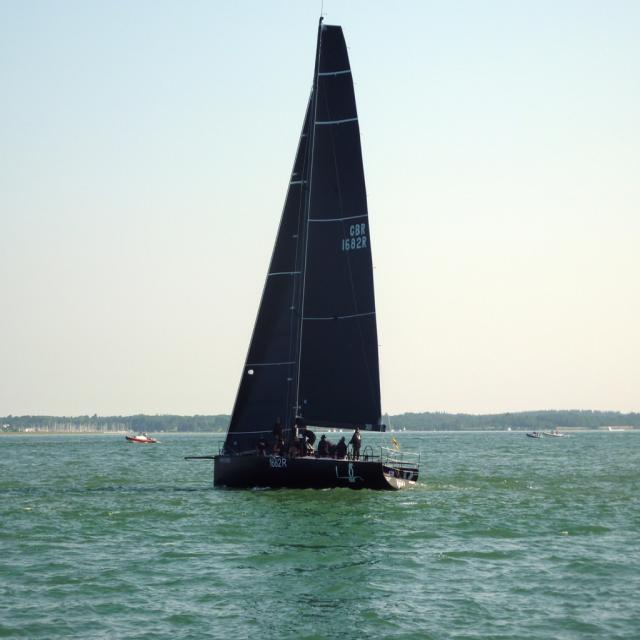Boat: (210, 0, 422, 490), (128, 435, 157, 440), (547, 431, 562, 437), (527, 433, 541, 439)
